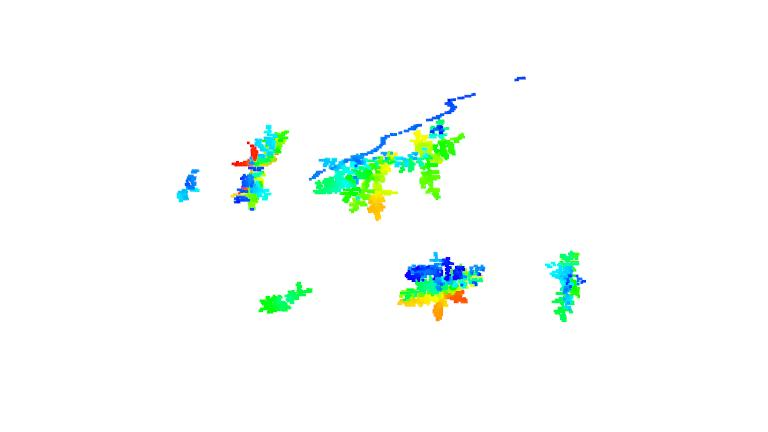chickpea: (386, 121, 465, 202), (399, 251, 488, 321), (312, 153, 399, 219), (233, 123, 286, 213), (546, 249, 589, 320), (254, 279, 316, 316), (173, 167, 203, 207)
